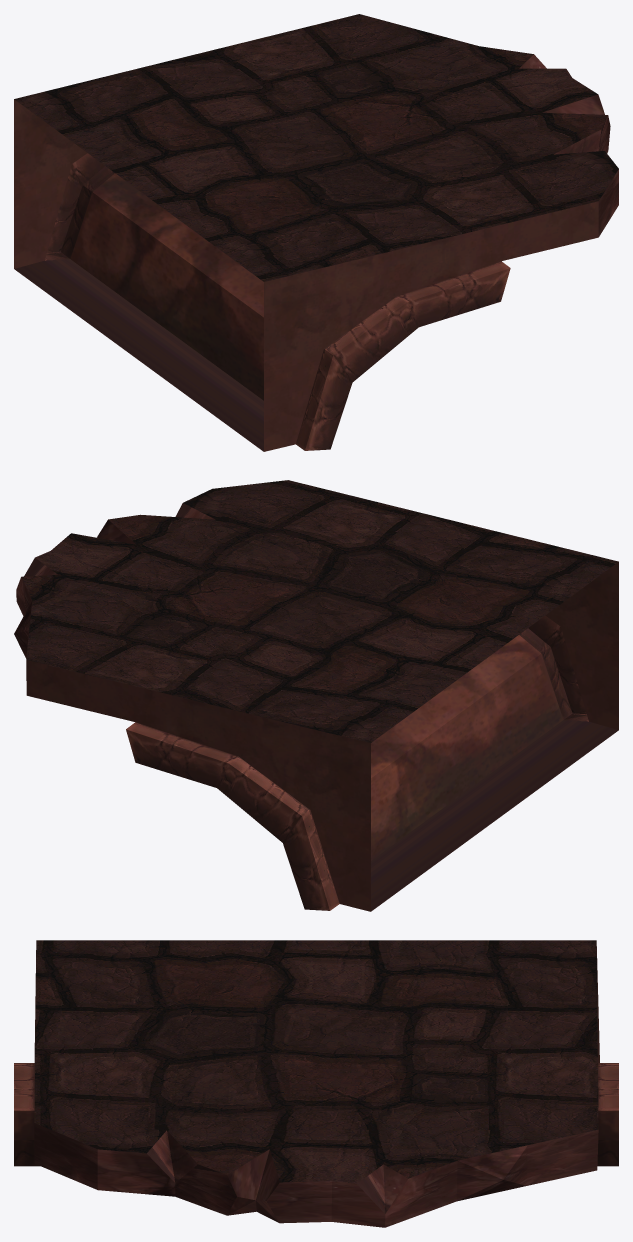
The model's file is lava_bridge_transition_02.fbx.
The picture shows the model from 3 angles, top to bottom: view 1: azimuth 30°, elevation 25°; view 2: azimuth 150°, elevation 25°; view 3: azimuth 270°, elevation 25°; orthographic projection. The views are drawn at different scales.
Parts seen in each view (by area): view 1: obj3.001; view 2: obj3.001; view 3: obj3.001.
Boxes of the visible parts, x1=… form: obj3.001: x1=14, y1=14, x2=618, y2=451; obj3.001: x1=14, y1=480, x2=618, y2=911; obj3.001: x1=14, y1=940, x2=618, y2=1227.
Bounding box in the file's own units: 5.21 × 1.92 × 5.4.
